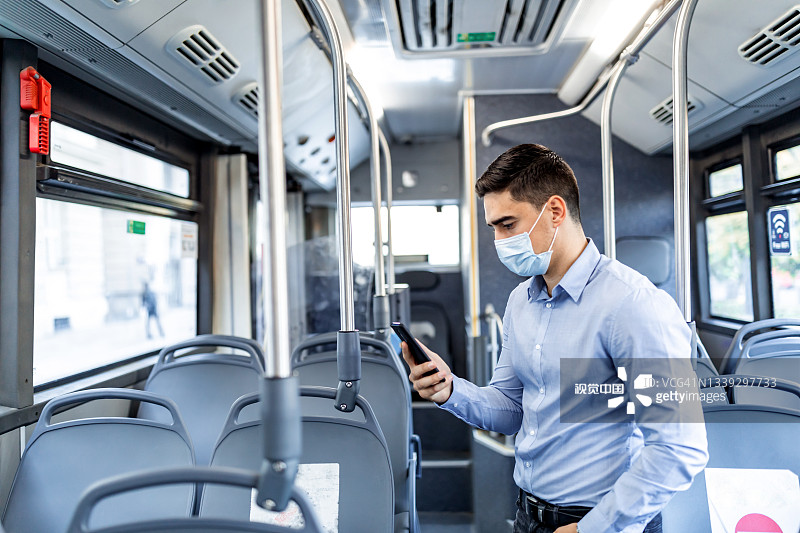reading: (384, 313, 471, 412)
